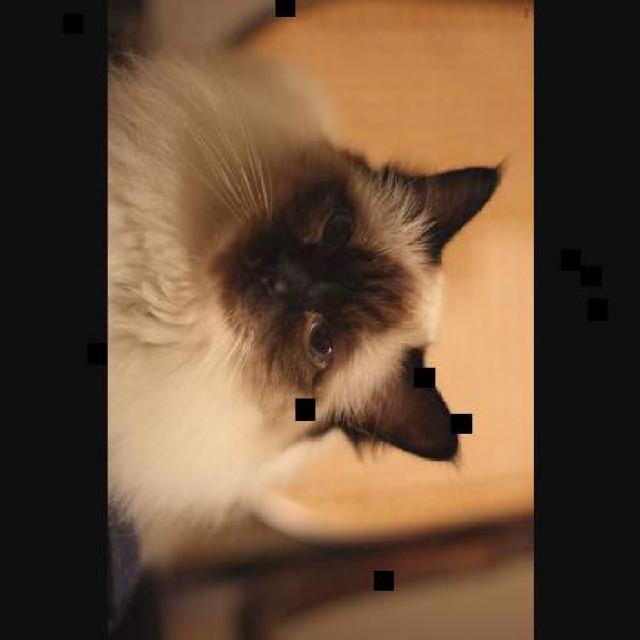unauthorized: (106, 17, 506, 621)
